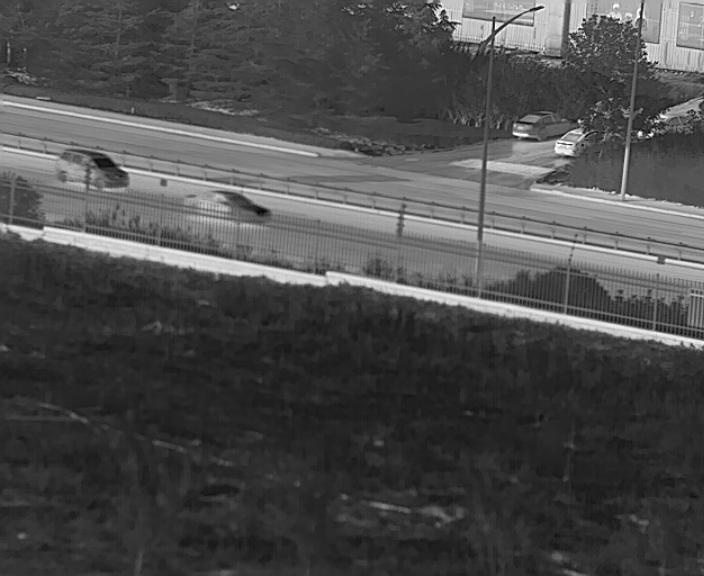vehicle: (181, 190, 272, 225), (56, 148, 130, 189), (510, 109, 574, 142), (554, 128, 588, 156)
